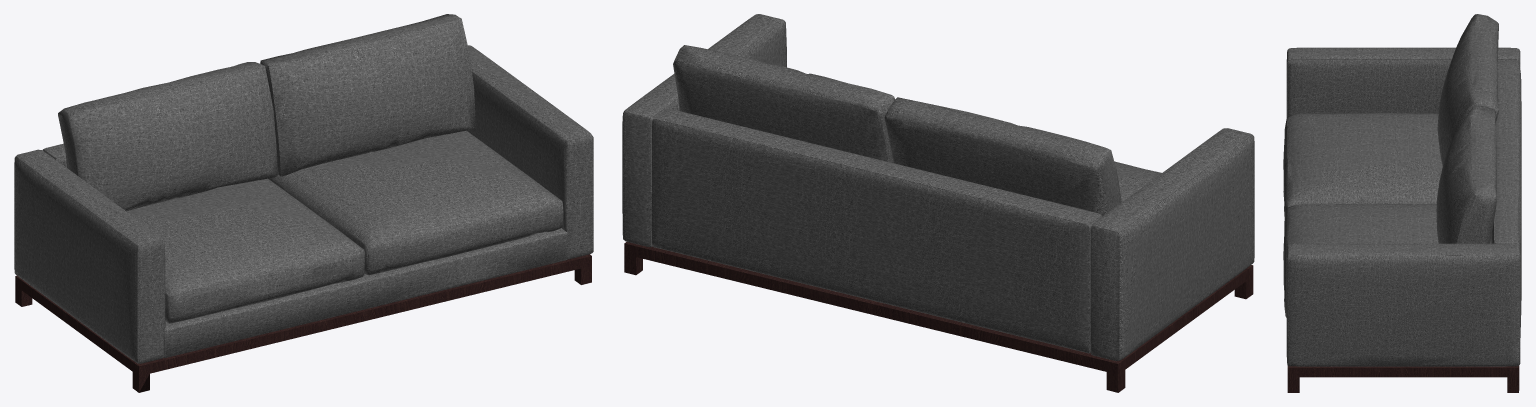
File: Sofa.FBX
3 renders of one model, left to right at view 1: azimuth 30°, elevation 25°; view 2: azimuth 150°, elevation 25°; view 3: azimuth 270°, elevation 25°, orthographic. The views are drawn at different scales.
Visible parts, largest first — view 1: Sofa; view 2: Sofa; view 3: Sofa.
Boxes of the visible parts, <box> form: Sofa: <box>14,14,593,392</box>; Sofa: <box>622,14,1254,392</box>; Sofa: <box>1283,14,1521,392</box>.
Bounding box in the file's own units: 235 × 96.6 × 112.
2 materials, 2 textured.
